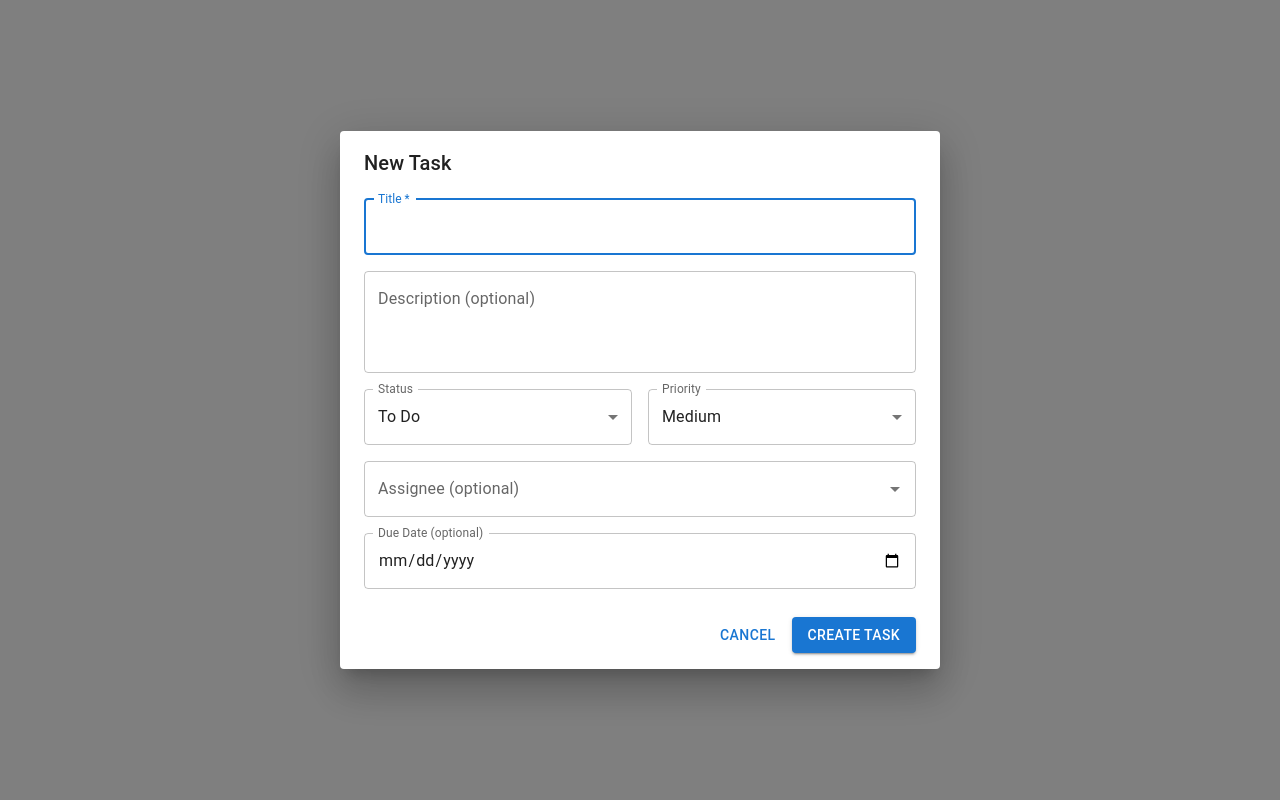
TaskDialog — create mode › shows field-level API errors
In the field labelled "Title *": (640, 227) [364, 199, 916, 255], type "Some Task"
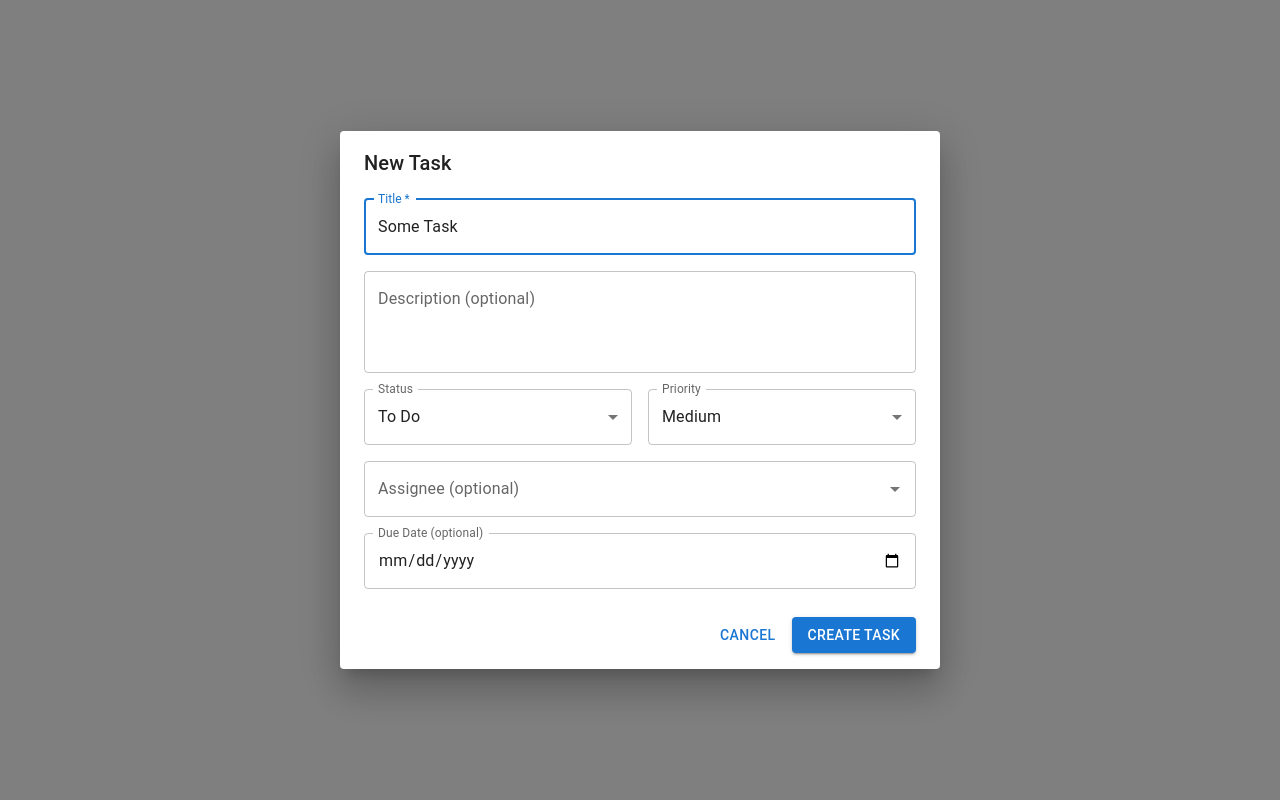
Click the button "Create Task": (854, 635) [792, 617, 916, 653]
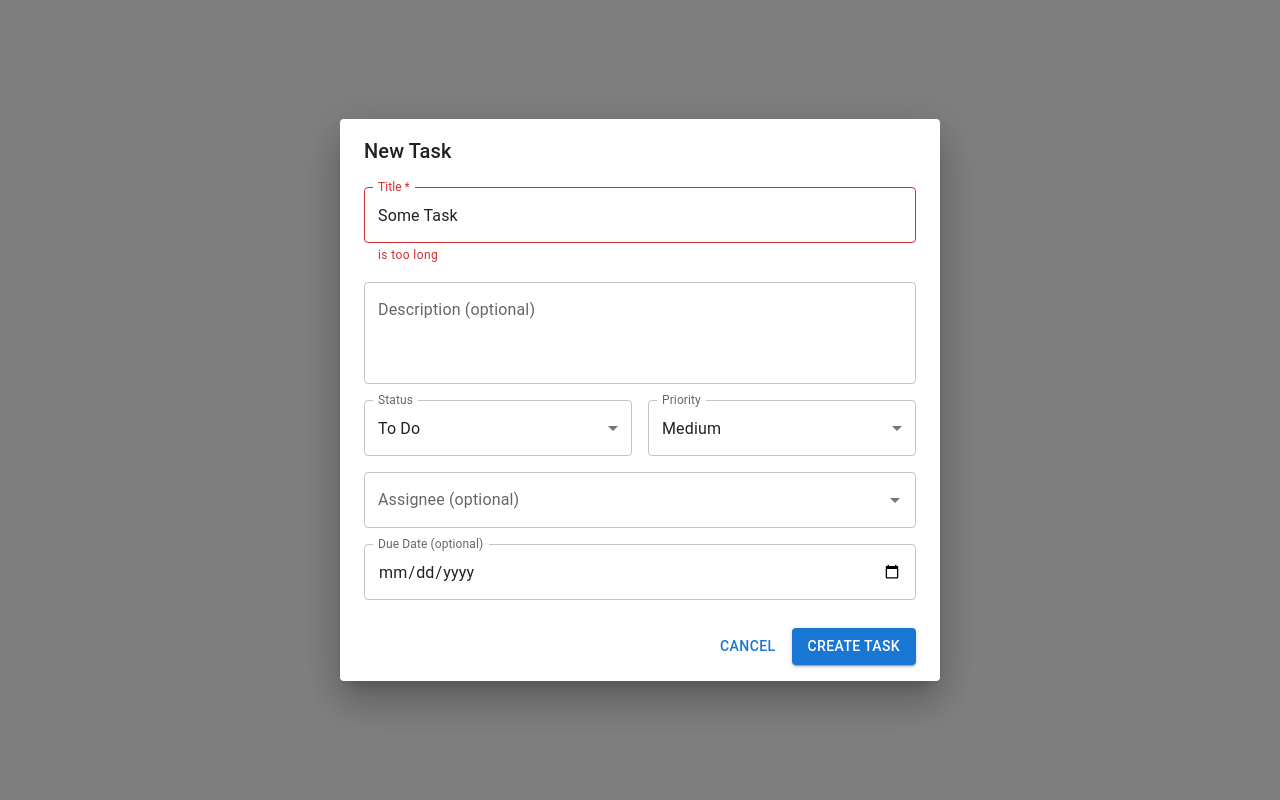
Now the text "is too long" is shown, box [378, 248, 438, 262]
